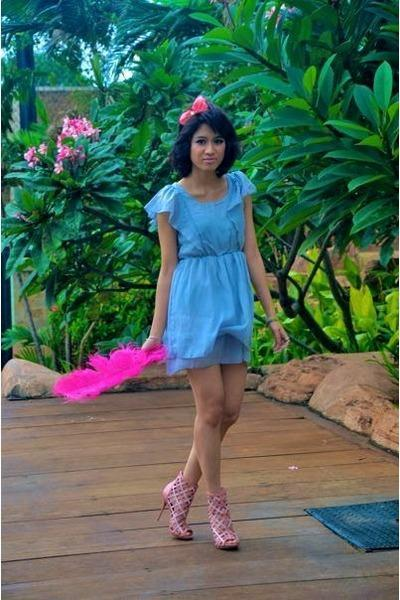bag: (52, 340, 166, 402)
dress: (144, 168, 260, 375)
shoe: (150, 471, 233, 539)
